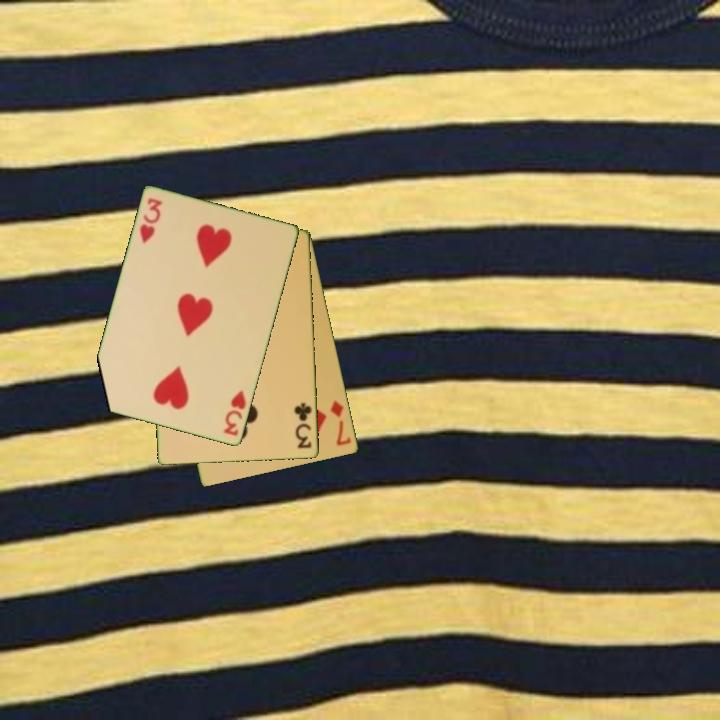3c: (291, 400, 315, 451)
3h: (220, 387, 249, 439), (136, 195, 165, 247)
7d: (327, 397, 354, 449)
